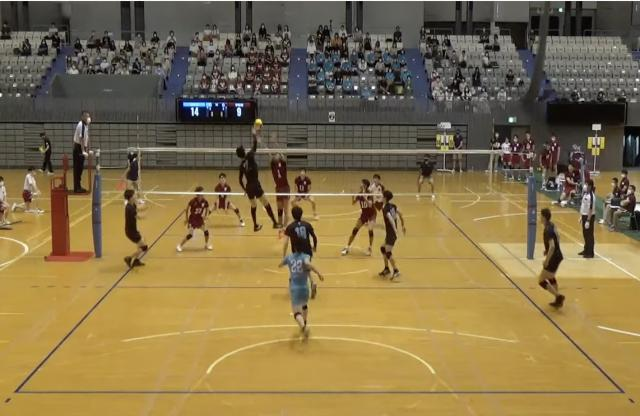spike: (232, 116, 284, 233)
